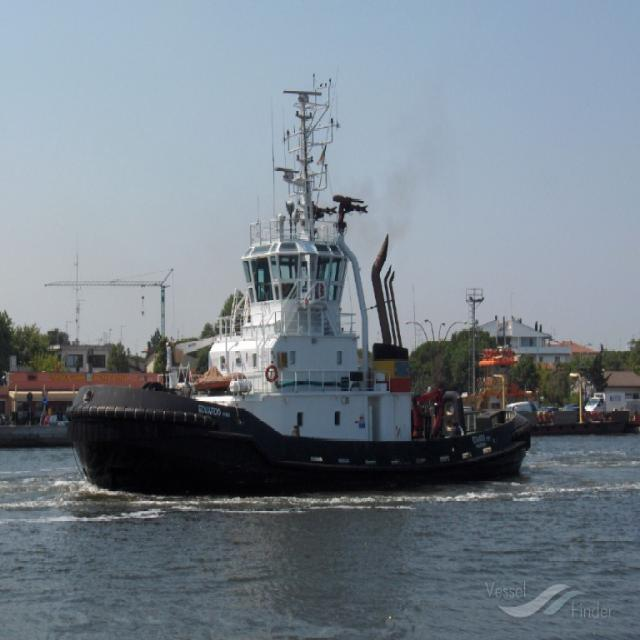tugboat: (61, 187, 533, 481)
